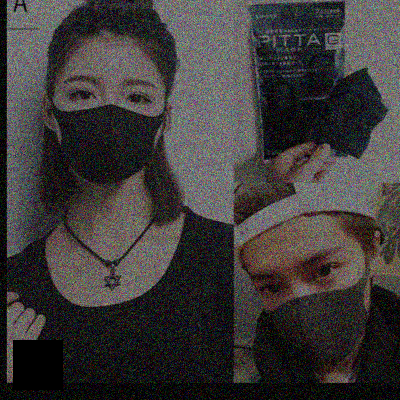with_mask: (247, 243, 371, 372), (50, 70, 167, 188)
